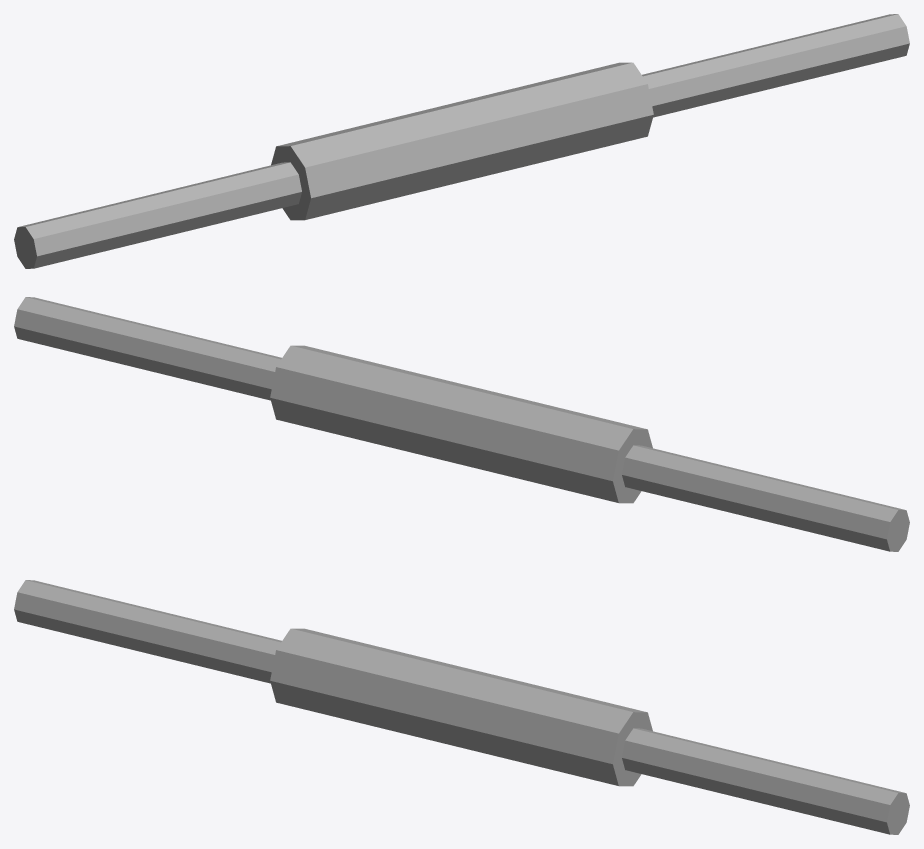
The model's file is barbell_1.glb.
The picture shows the model from 3 angles, top to bottom: view 1: azimuth 30°, elevation 25°; view 2: azimuth 150°, elevation 25°; view 3: azimuth 330°, elevation 25°; orthographic projection.
Visible parts, largest first — view 1: Weight_Bar_C; view 2: Weight_Bar_C; view 3: Weight_Bar_C.
Boxes of the visible parts, box(x1,y1,x2,y2) form: Weight_Bar_C: box(14, 14, 909, 268); Weight_Bar_C: box(14, 297, 909, 551); Weight_Bar_C: box(14, 580, 909, 834).
Size of the model in its own units: 0.5393 by 0.0439 by 0.0439.
1 material, 1 textured.
